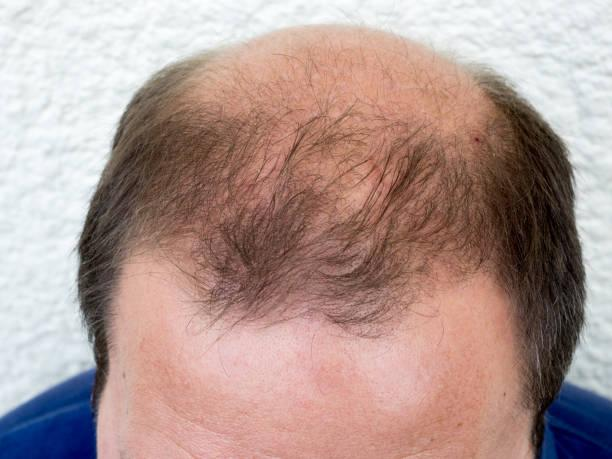dry hair: (97, 207, 115, 297), (109, 152, 125, 191)
low hair density: (232, 51, 442, 127), (453, 85, 518, 160), (339, 177, 369, 206), (248, 160, 275, 187), (305, 150, 335, 172)
